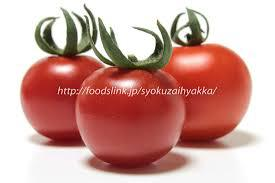tomato: (77, 63, 183, 165), (155, 42, 250, 141), (21, 51, 103, 140)
